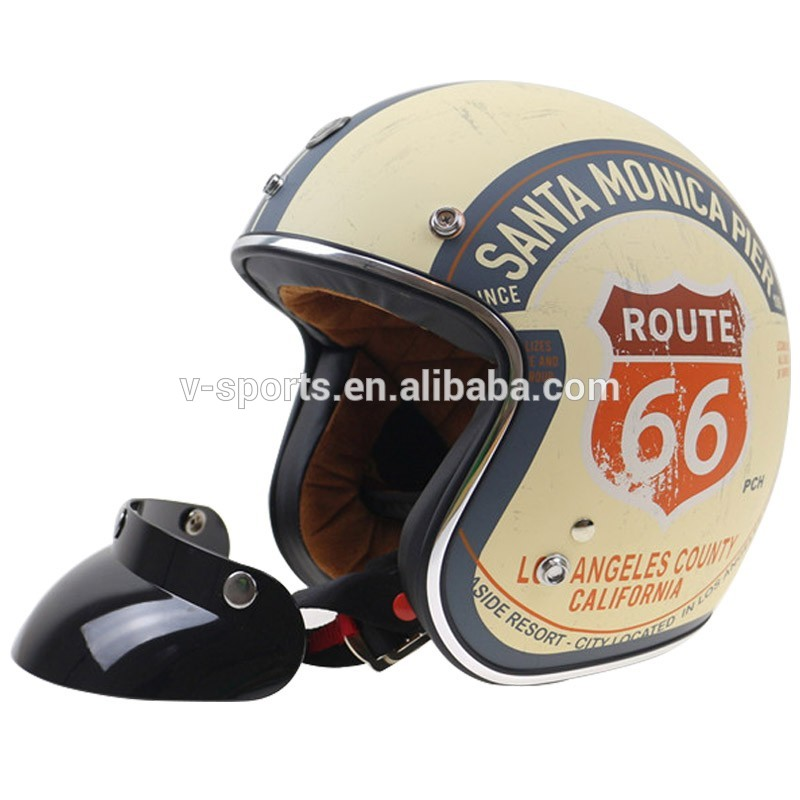with_helmet: (218, 75, 800, 686)
